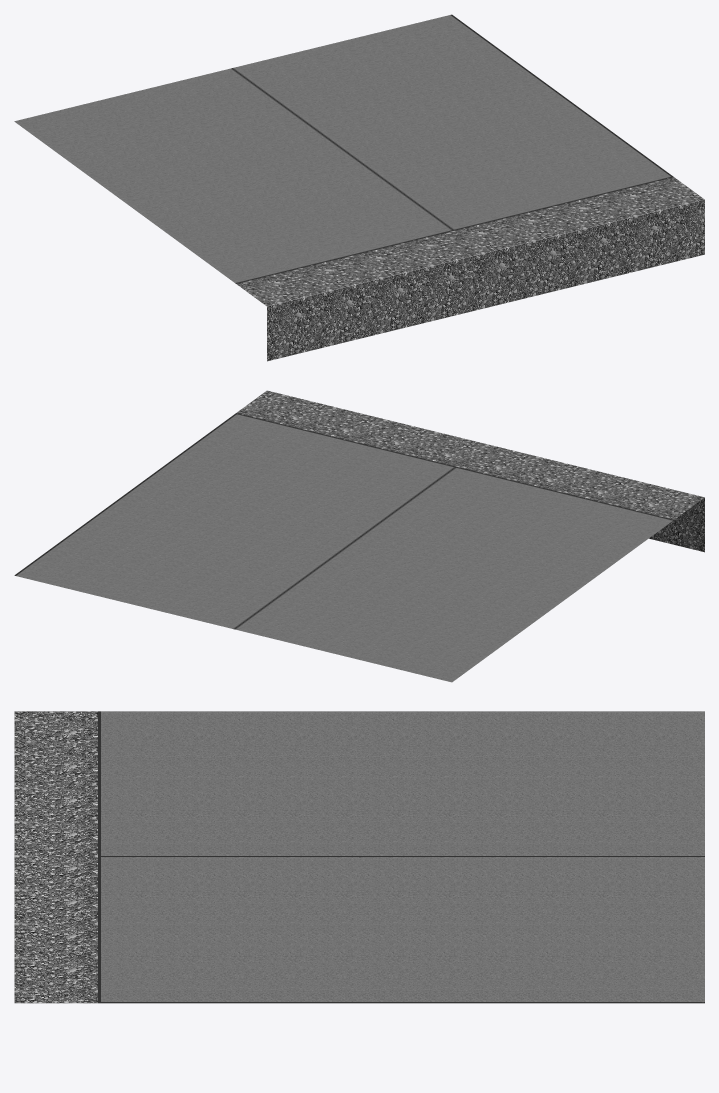
File: FllorTile_02_002.fbx
3 views of the same model, one above another, from view 1: azimuth 30°, elevation 25°; view 2: azimuth 150°, elevation 25°; view 3: azimuth 270°, elevation 25° (orthographic). The views are drawn at different scales.
Parts seen in each view (by area): view 1: Sidewalk; view 2: Sidewalk; view 3: Sidewalk.
Boxes of the visible parts, <box> form: Sidewalk: <box>14,14,704,361</box>; Sidewalk: <box>14,390,704,682</box>; Sidewalk: <box>14,711,704,1003</box>.
Size of the model in its own units: 100 by 12 by 100.
1 material, 1 textured.
